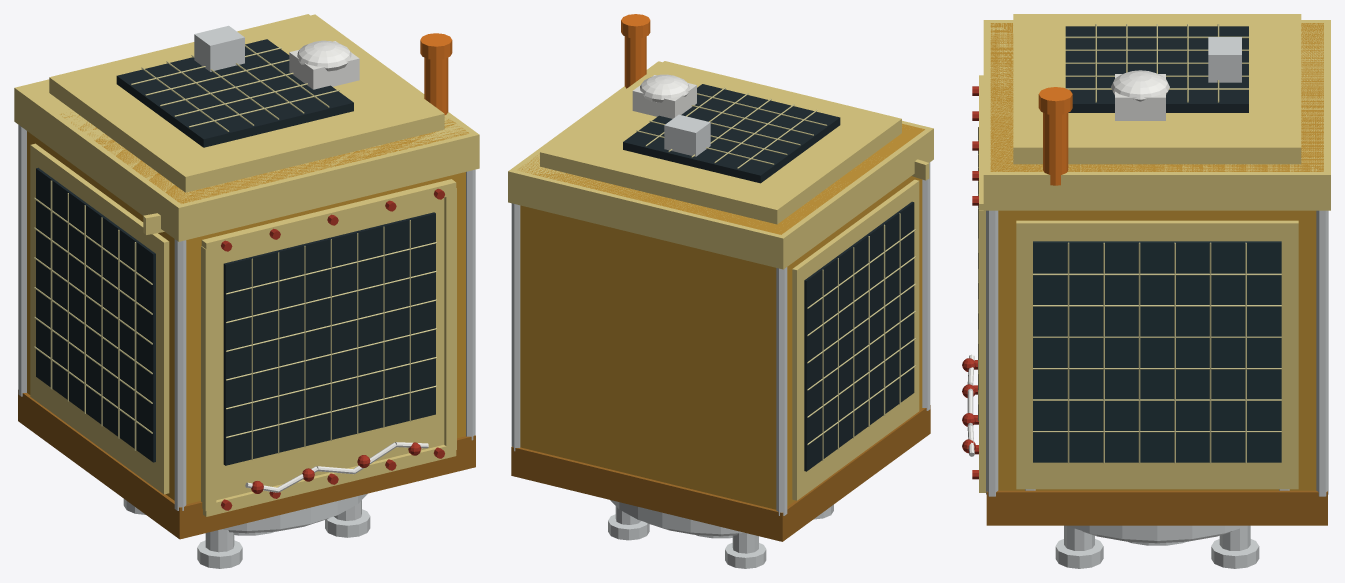
Rendered from PRATHAM.glb.
The picture shows the model from 3 angles, left to right: view 1: azimuth 30°, elevation 25°; view 2: azimuth 150°, elevation 25°; view 3: azimuth 270°, elevation 25°; orthographic projection. The views are drawn at different scales.
Visible parts, largest first — view 1: PRATHAM_FRONT_SOLAR_CELLS, PRATHAM_TOP_BASE_PLATE, PRATHAM_TOP_GOLD_BAND, PRATHAM_LEFT_SOLAR_PANEL, PRATHAM_MAIN_GOLD_BODY, PRATHAM_FRONT_GOLD_SOLAR_FRAME, PRATHAM_FRONT_SOLAR_BACKING, PRATHAM_TOP_BLACK_PANEL, PRATHAM_BOTTOM_GOLD_BAND, PRATHAM_LEFT_PANEL_BACKING, PRATHAM_BODY_CORNER_RAILS, PRATHAM_FRONT_CELL_GRID (+12 smaller); view 2: PRATHAM_MAIN_GOLD_BODY, PRATHAM_TOP_BASE_PLATE, PRATHAM_LEFT_SOLAR_PANEL, PRATHAM_TOP_GOLD_BAND, PRATHAM_BOTTOM_GOLD_BAND, PRATHAM_TOP_BLACK_PANEL, PRATHAM_LEFT_PANEL_BACKING, PRATHAM_BODY_CORNER_RAILS, PRATHAM_LEFT_SOLAR_GRID, PRATHAM_TOP_PANEL_GRID, PRATHAM_TOP_CENTRAL_SENSOR, PRATHAM_LOWER_FEET (+6 smaller); view 3: PRATHAM_RIGHT_SOLAR_PANEL, PRATHAM_TOP_BASE_PLATE, PRATHAM_MAIN_GOLD_BODY, PRATHAM_RIGHT_PANEL_BACKING, PRATHAM_TOP_GOLD_BAND, PRATHAM_BOTTOM_GOLD_BAND, PRATHAM_TOP_BLACK_PANEL, PRATHAM_BODY_CORNER_RAILS, PRATHAM_RIGHT_SOLAR_GRID, PRATHAM_FRONT_GOLD_SOLAR_FRAME, PRATHAM_TOP_PANEL_GRID, PRATHAM_LOWER_BASE_RING (+10 smaller).
Part boxes in pixels (bbox=[...]): PRATHAM_FRONT_SOLAR_CELLS: bbox=[223, 212, 435, 465]; PRATHAM_TOP_BASE_PLATE: bbox=[49, 14, 444, 192]; PRATHAM_TOP_GOLD_BAND: bbox=[14, 14, 479, 241]; PRATHAM_LEFT_SOLAR_PANEL: bbox=[36, 167, 155, 462]; PRATHAM_MAIN_GOLD_BODY: bbox=[27, 112, 468, 504]; PRATHAM_FRONT_GOLD_SOLAR_FRAME: bbox=[201, 179, 456, 516]; PRATHAM_FRONT_SOLAR_BACKING: bbox=[216, 198, 444, 500]; PRATHAM_TOP_BLACK_PANEL: bbox=[116, 39, 353, 147]; PRATHAM_BOTTOM_GOLD_BAND: bbox=[18, 390, 475, 539]; PRATHAM_LEFT_PANEL_BACKING: bbox=[30, 143, 169, 494]; PRATHAM_BODY_CORNER_RAILS: bbox=[18, 125, 475, 510]; PRATHAM_FRONT_CELL_GRID: bbox=[226, 220, 436, 459]; PRATHAM_MAIN_GOLD_BODY: bbox=[518, 123, 924, 509]; PRATHAM_TOP_BASE_PLATE: bbox=[540, 61, 901, 224]; PRATHAM_LEFT_SOLAR_PANEL: bbox=[804, 201, 914, 471]; PRATHAM_TOP_GOLD_BAND: bbox=[508, 61, 933, 269]; PRATHAM_BOTTOM_GOLD_BAND: bbox=[511, 405, 930, 541]; PRATHAM_TOP_BLACK_PANEL: bbox=[623, 84, 840, 183]; PRATHAM_LEFT_PANEL_BACKING: bbox=[792, 179, 919, 500]; PRATHAM_BODY_CORNER_RAILS: bbox=[511, 162, 930, 515]; PRATHAM_LEFT_SOLAR_GRID: bbox=[807, 213, 915, 460]; PRATHAM_TOP_PANEL_GRID: bbox=[636, 87, 827, 168]; PRATHAM_TOP_CENTRAL_SENSOR: bbox=[664, 114, 710, 156]; PRATHAM_LOWER_FEET: bbox=[608, 504, 833, 568]; PRATHAM_RIGHT_SOLAR_PANEL: bbox=[1033, 241, 1281, 462]; PRATHAM_TOP_BASE_PLATE: bbox=[1013, 14, 1301, 164]; PRATHAM_MAIN_GOLD_BODY: bbox=[990, 23, 1323, 490]; PRATHAM_RIGHT_PANEL_BACKING: bbox=[1016, 220, 1298, 489]; PRATHAM_TOP_GOLD_BAND: bbox=[983, 20, 1330, 210]; PRATHAM_BOTTOM_GOLD_BAND: bbox=[986, 490, 1327, 525]; PRATHAM_TOP_BLACK_PANEL: bbox=[1065, 26, 1248, 112]; PRATHAM_BODY_CORNER_RAILS: bbox=[986, 210, 1328, 496]; PRATHAM_RIGHT_SOLAR_GRID: bbox=[1033, 242, 1281, 463]; PRATHAM_FRONT_GOLD_SOLAR_FRAME: bbox=[979, 75, 985, 492]; PRATHAM_TOP_PANEL_GRID: bbox=[1065, 24, 1248, 102]; PRATHAM_LOWER_BASE_RING: bbox=[1066, 525, 1247, 540].
Bounding box in the file's own units: 1.38 × 1.97 × 1.31.
